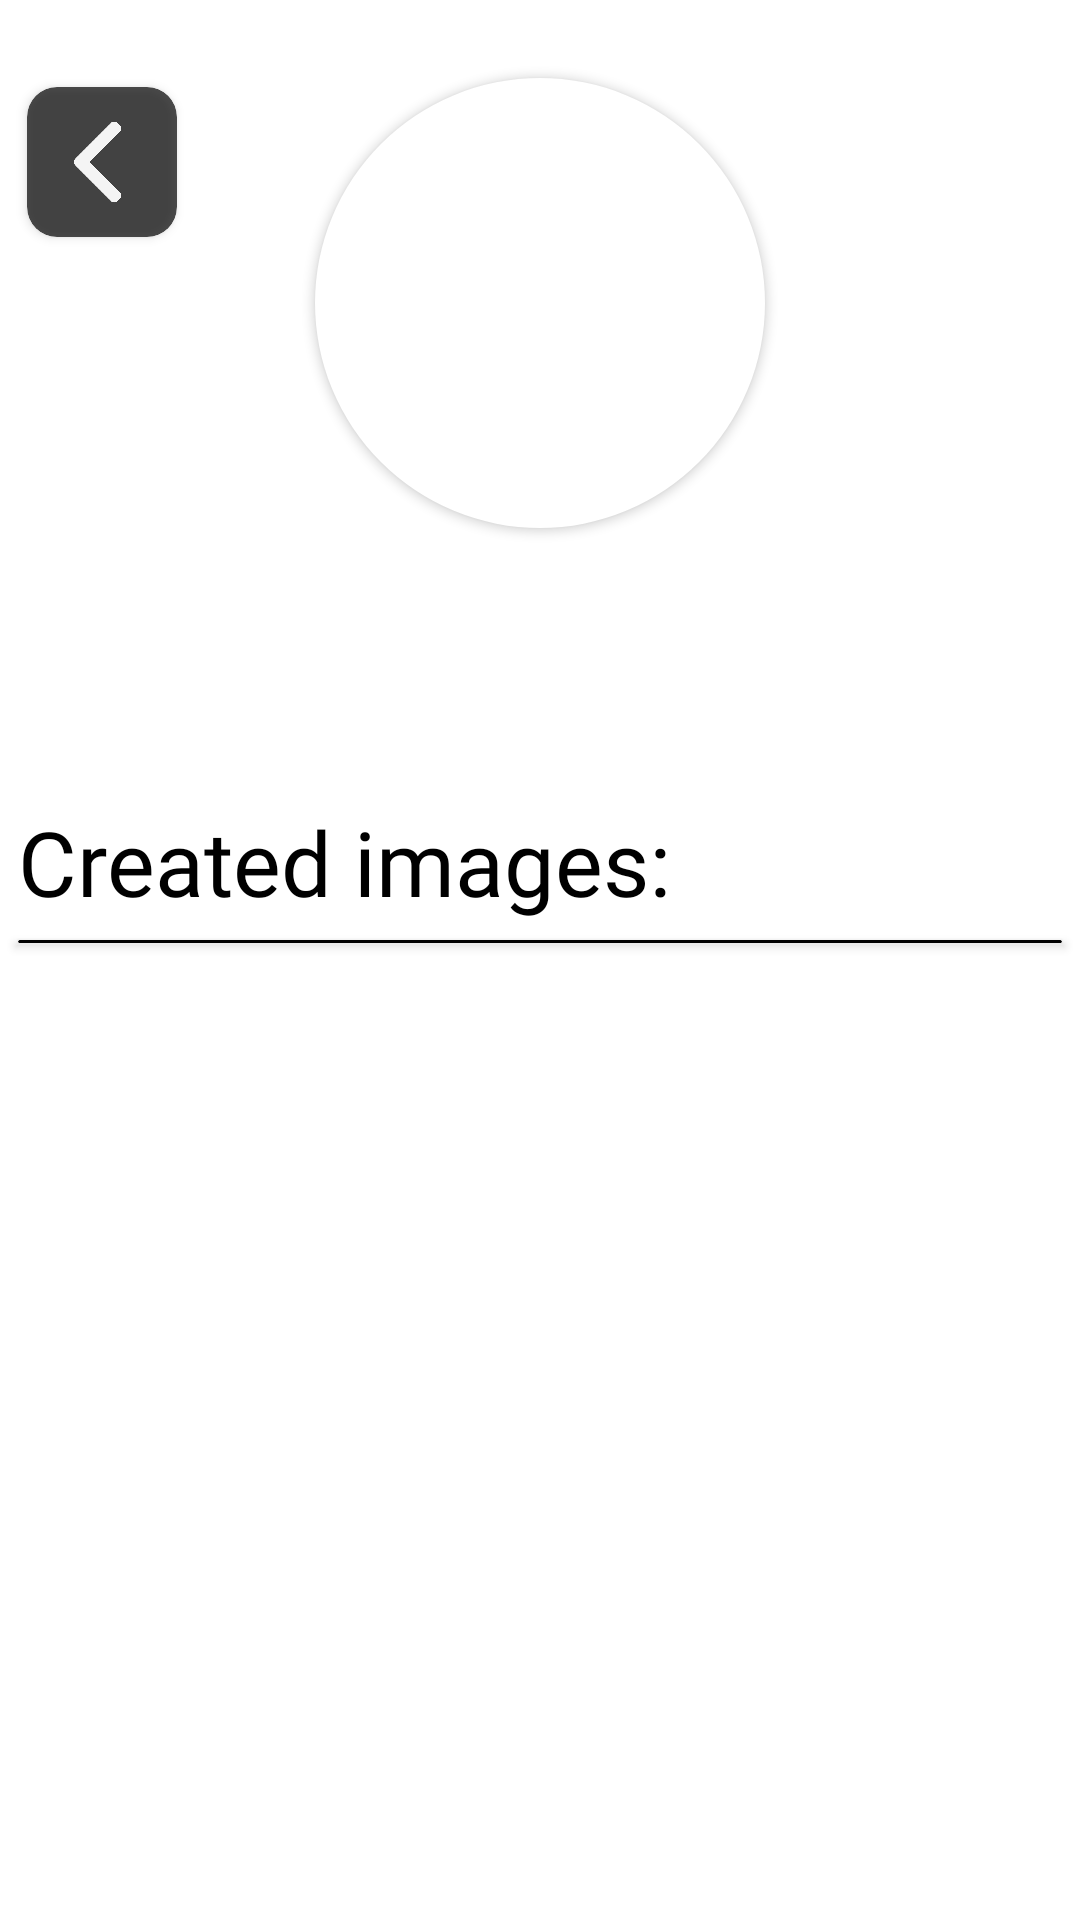

Named icons in this screenshot (1080px×1920px) and their bounding boxes, {"x1": x1, "y1": y1, "x2": x2, "y2": y2}:
arrow back: {"x1": 74, "y1": 122, "x2": 121, "y2": 202}
